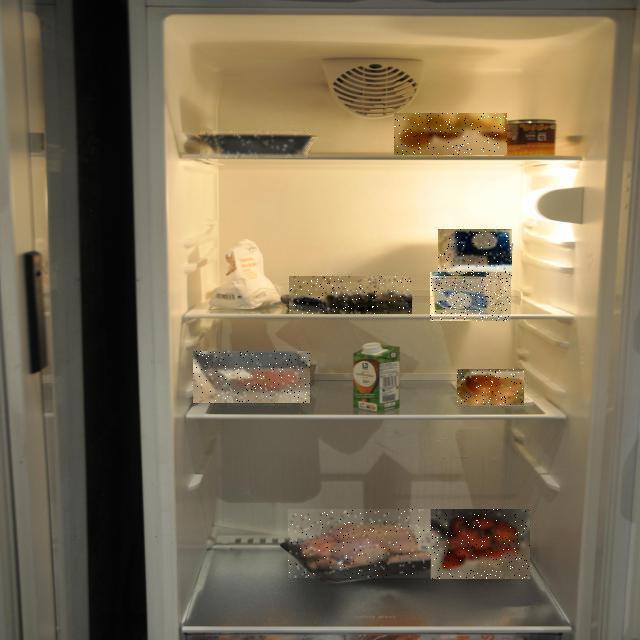Eggs: (457, 369, 524, 405)
Meat: (288, 509, 436, 578), (193, 351, 310, 403), (200, 131, 308, 158)
Milk: (430, 272, 511, 321), (438, 229, 512, 279)
Olives: (289, 276, 412, 314)
Potatoes: (394, 113, 507, 155)
Tomatoes: (431, 509, 530, 579)
